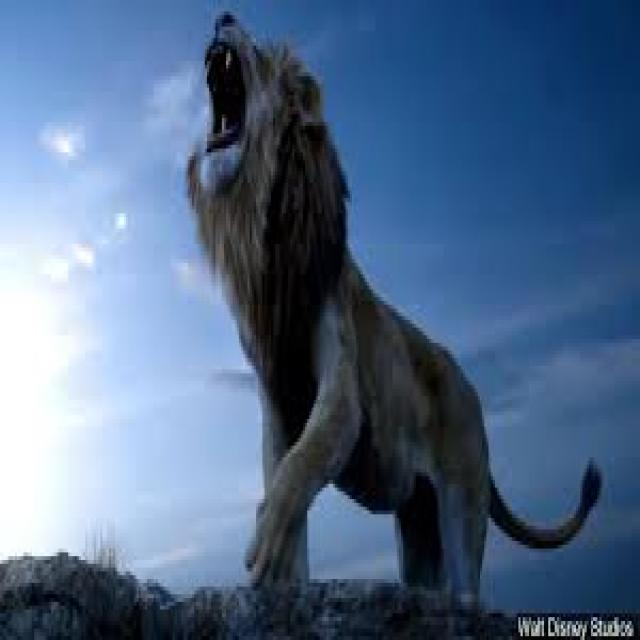Lion: (187, 10, 488, 606)
